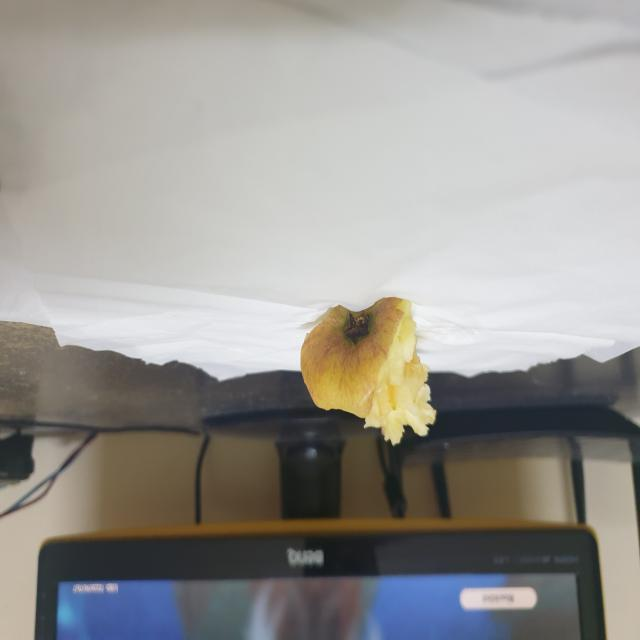apple: (292, 296, 441, 454)
